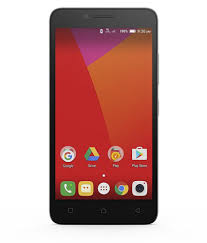lenovo: (46, 3, 157, 227)
